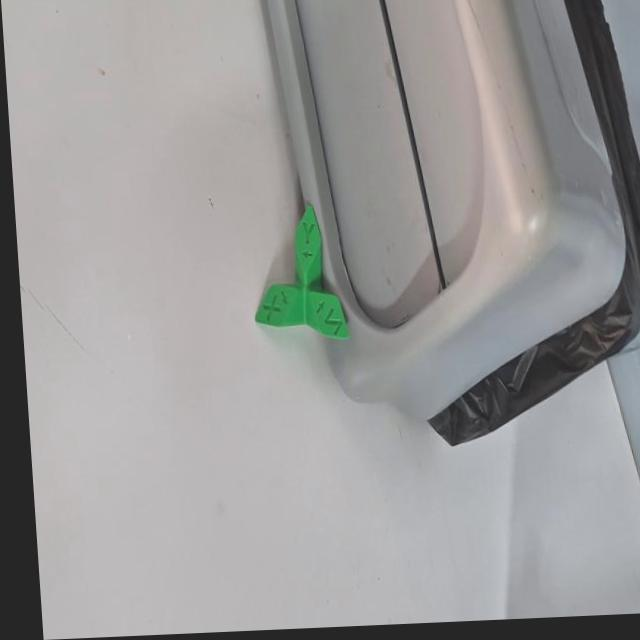eje: (245, 201, 351, 346)
